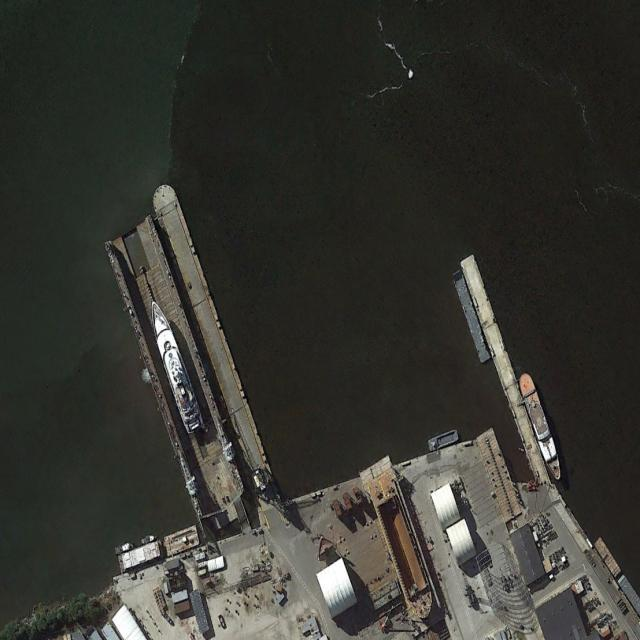Other Ship: (516, 369, 565, 484), (426, 427, 460, 453)
Yacht: (144, 294, 204, 437)
